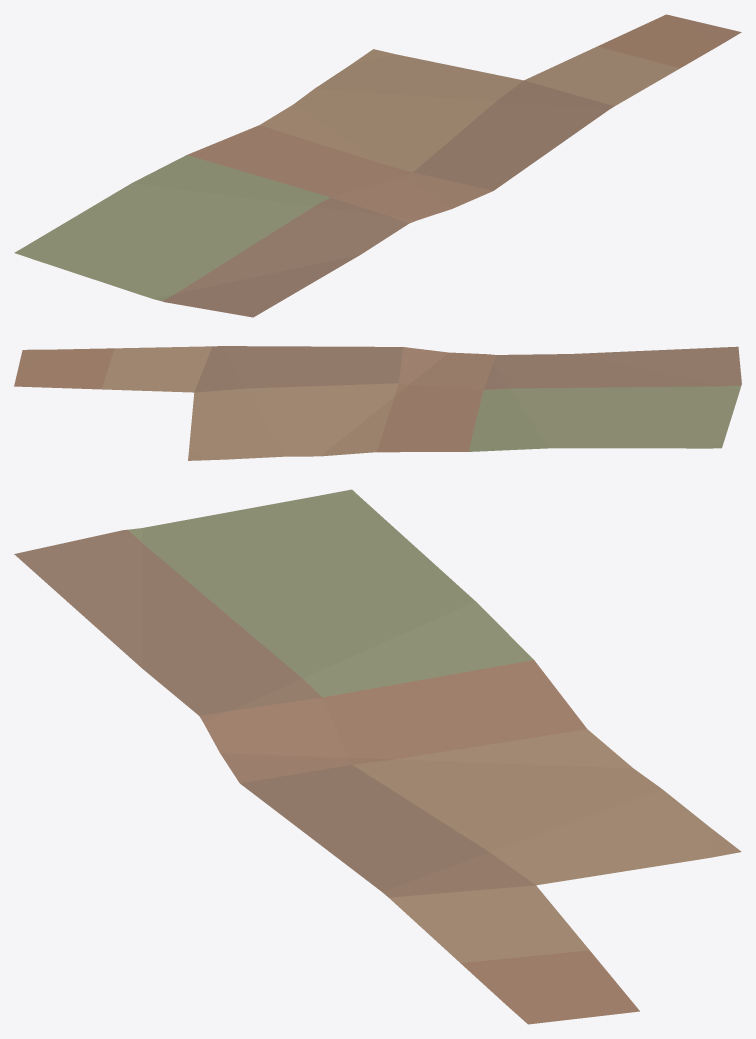
The model's file is farm_33_39_soil.glb.
3 renders of one model, top to bottom at view 1: azimuth 30°, elevation 25°; view 2: azimuth 150°, elevation 25°; view 3: azimuth 270°, elevation 25°, orthographic. The views are drawn at different scales.
Parts seen in each view (by area): view 1: geometry_0; view 2: geometry_0; view 3: geometry_0.
Boxes of the visible parts, <box> form: geometry_0: <box>14,14,741,317</box>; geometry_0: <box>14,346,741,460</box>; geometry_0: <box>14,489,741,1024</box>.
Size of the model in its own units: 168 by 6.84 by 102.
